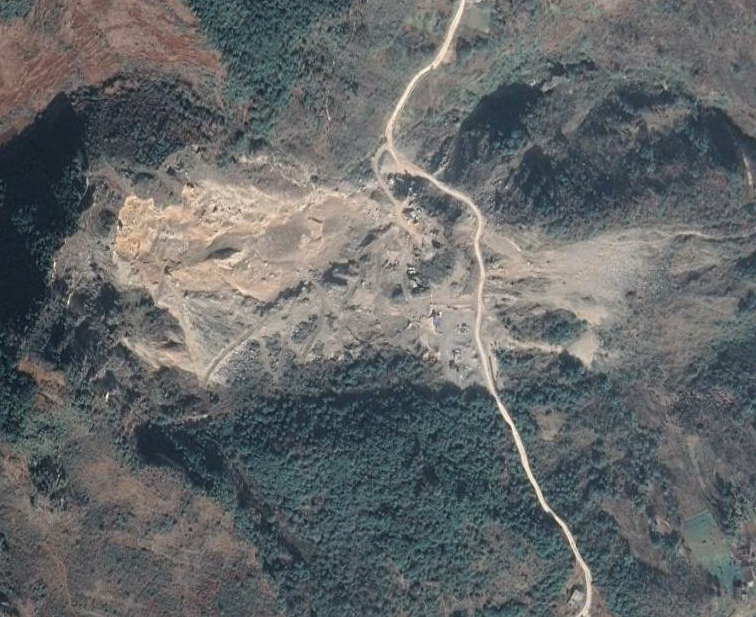slope: (90, 152, 479, 385), (485, 216, 677, 372)
